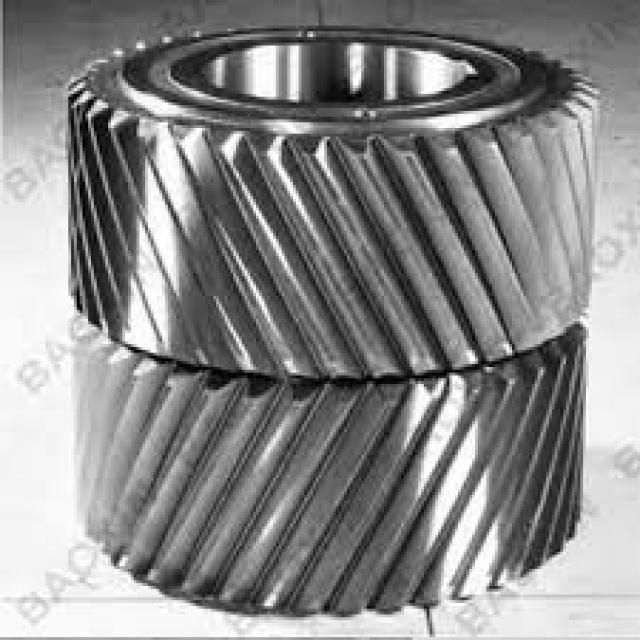No Fault: (73, 91, 594, 627)
